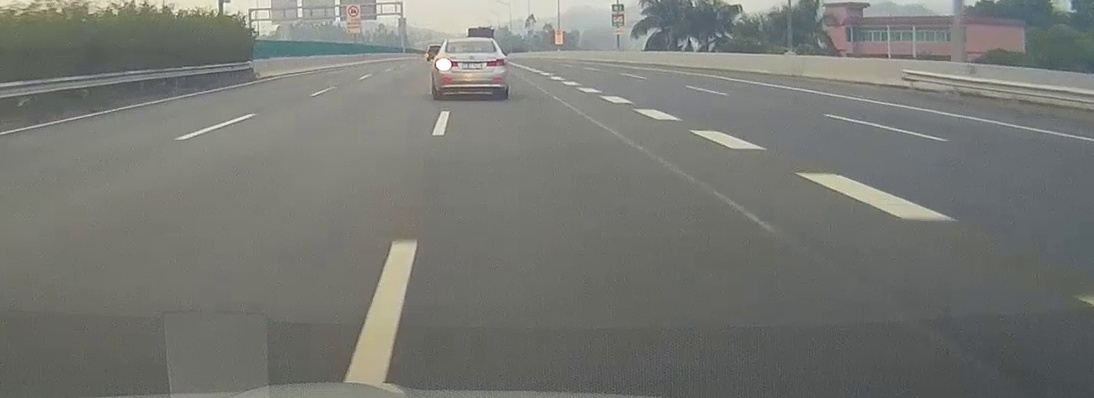L_light: (434, 60, 458, 68)
R_light: (486, 59, 506, 66)
T_light: (466, 41, 477, 44)
day-left: (433, 38, 508, 100)
